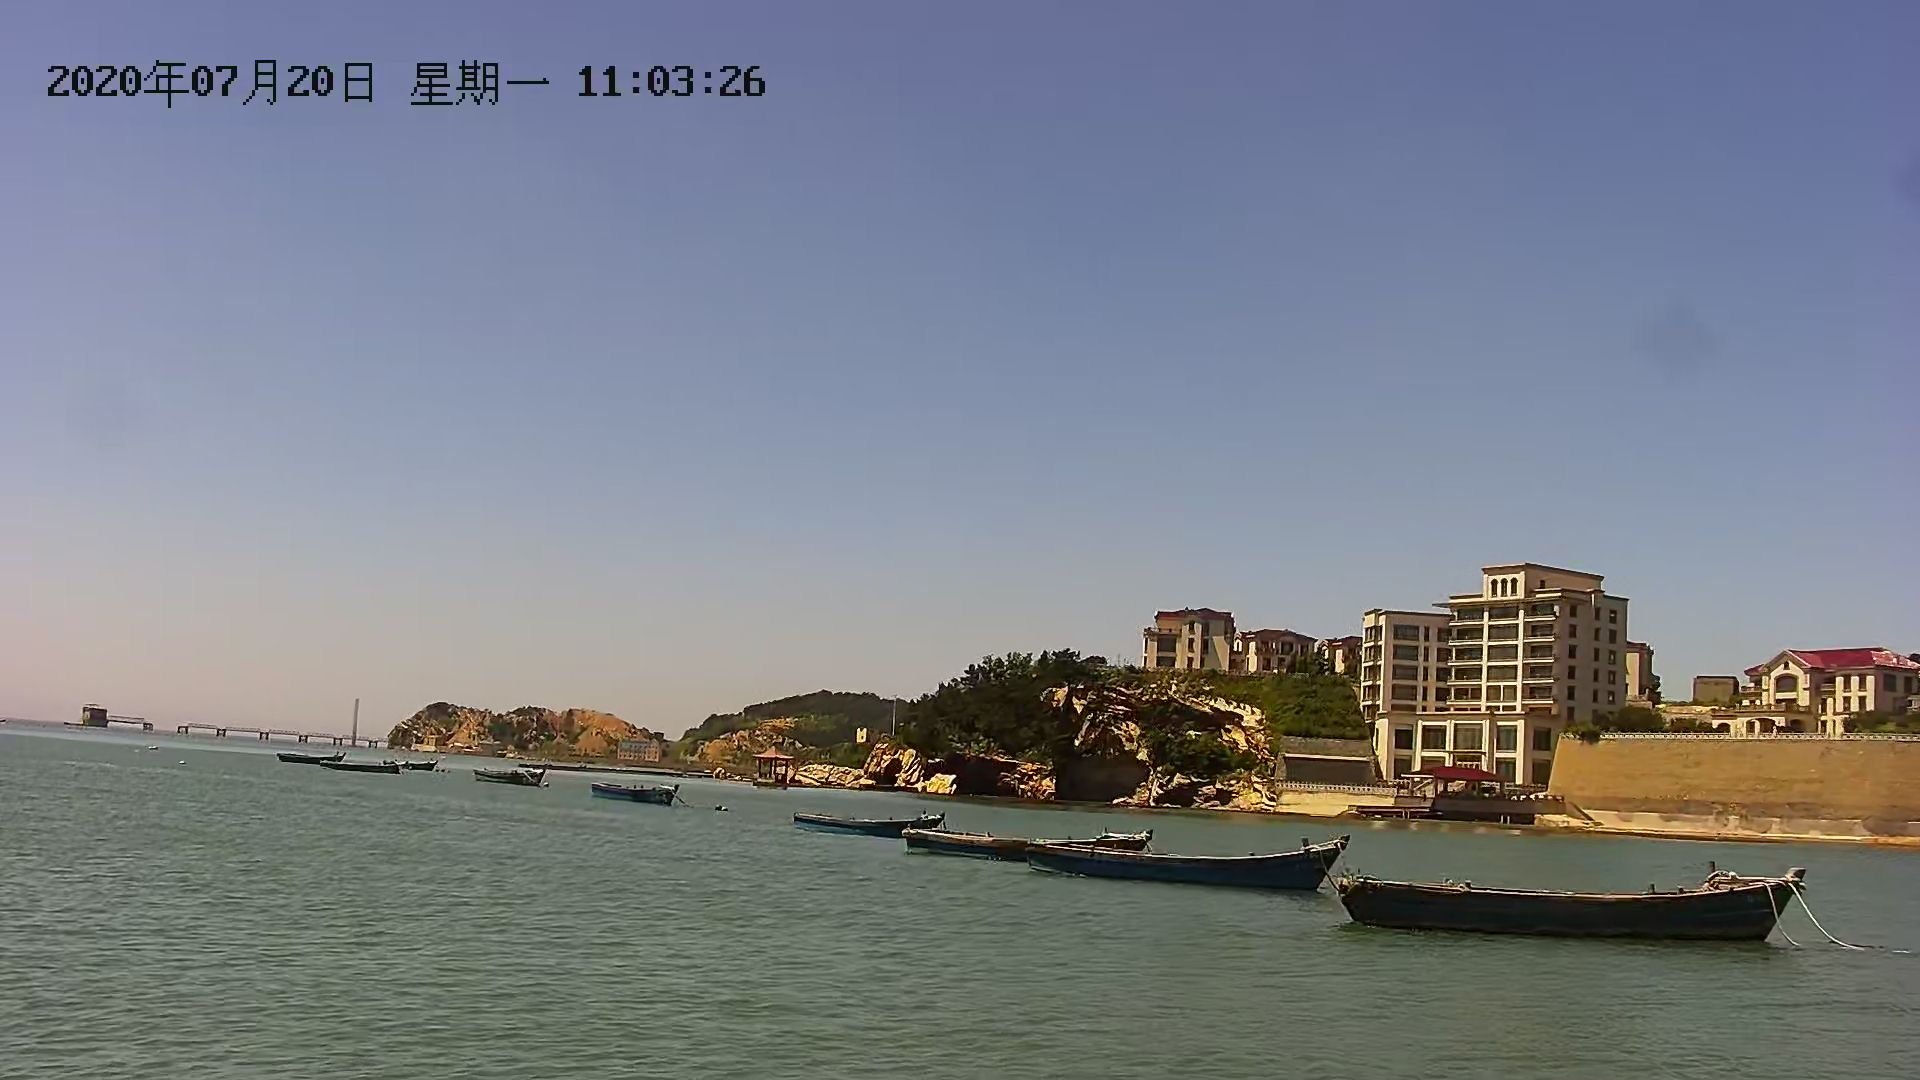boat: (1329, 864, 1807, 953), (1023, 832, 1353, 910), (899, 823, 1145, 882), (782, 799, 939, 837), (467, 760, 549, 794), (268, 744, 349, 771), (589, 783, 683, 807), (330, 756, 401, 785)
harbor: (69, 702, 392, 753)
